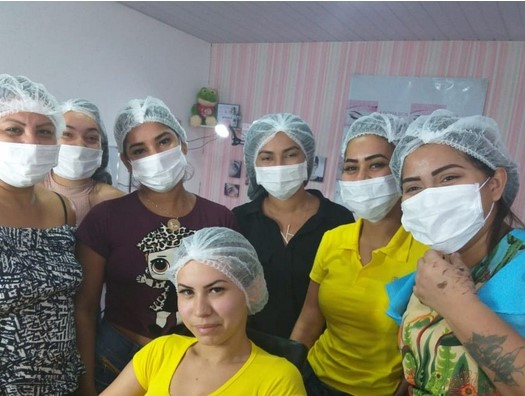face_no_mask: (174, 231, 253, 342)
face_with_mask: (398, 114, 518, 259), (115, 96, 191, 196), (338, 111, 405, 224), (243, 111, 318, 204), (1, 74, 59, 189), (56, 98, 105, 181)
